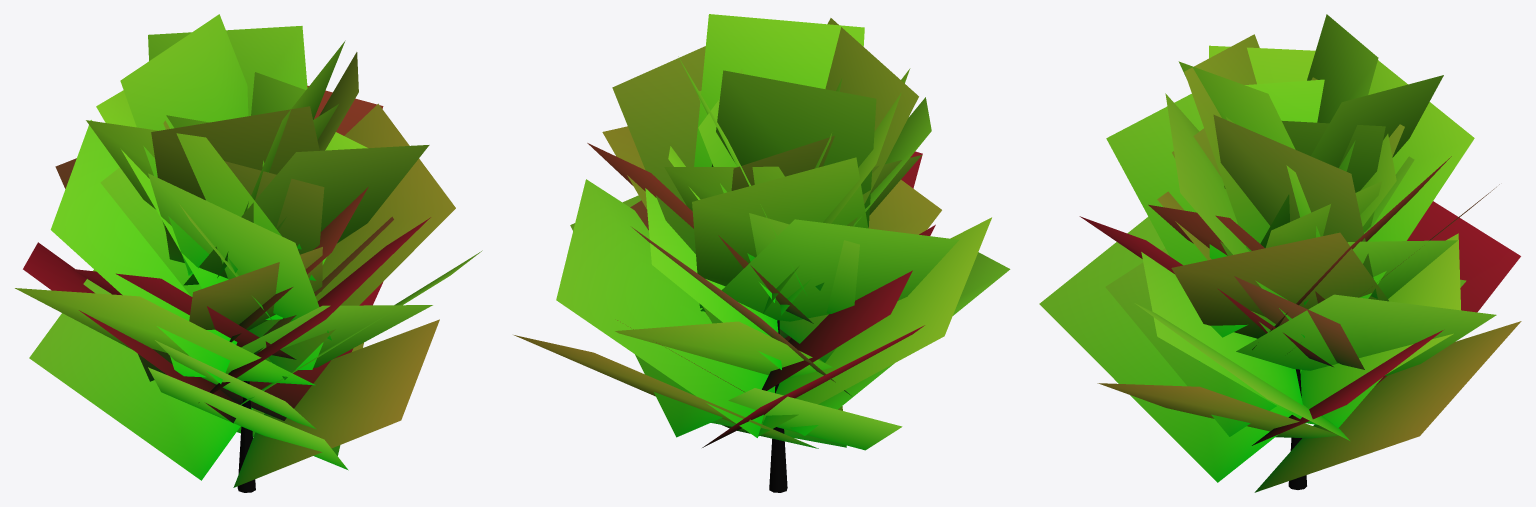
Rendered from Bush_1_1.fbx.
The picture shows the model from 3 angles, left to right: view 1: azimuth 30°, elevation 25°; view 2: azimuth 150°, elevation 25°; view 3: azimuth 270°, elevation 25°; orthographic projection. The views are drawn at different scales.
Parts seen in each view (by area): view 1: Bush_1_1; view 2: Bush_1_1; view 3: Bush_1_1.
Part boxes in pixels (x1,y1,x2,y2): Bush_1_1: [15, 14, 482, 492]; Bush_1_1: [514, 14, 1010, 492]; Bush_1_1: [1039, 14, 1521, 492].
Bounding box in the file's own units: 450 × 452 × 454.
